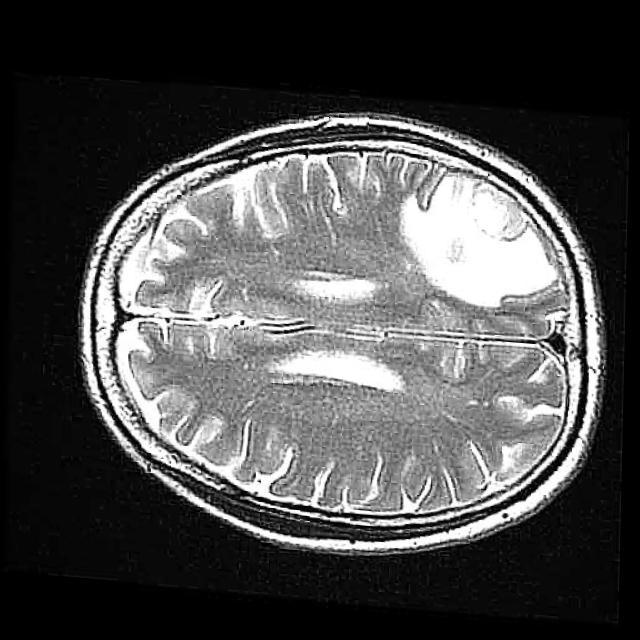Tumor: (406, 166, 560, 298)
